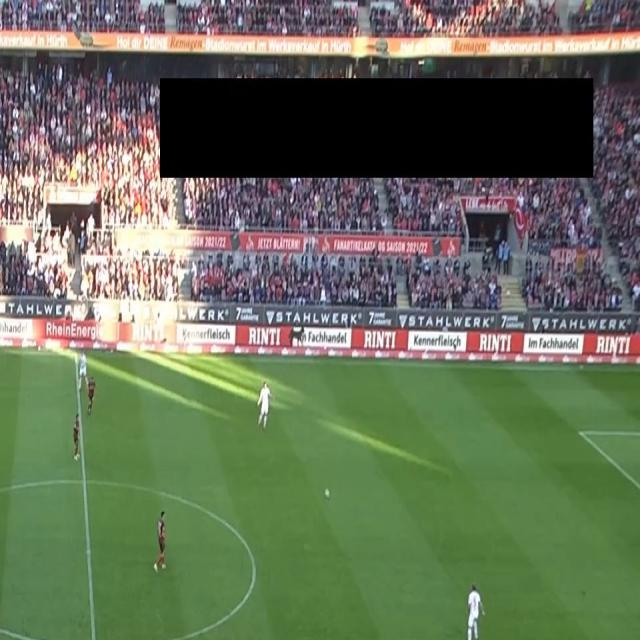ball: (324, 486, 331, 499)
